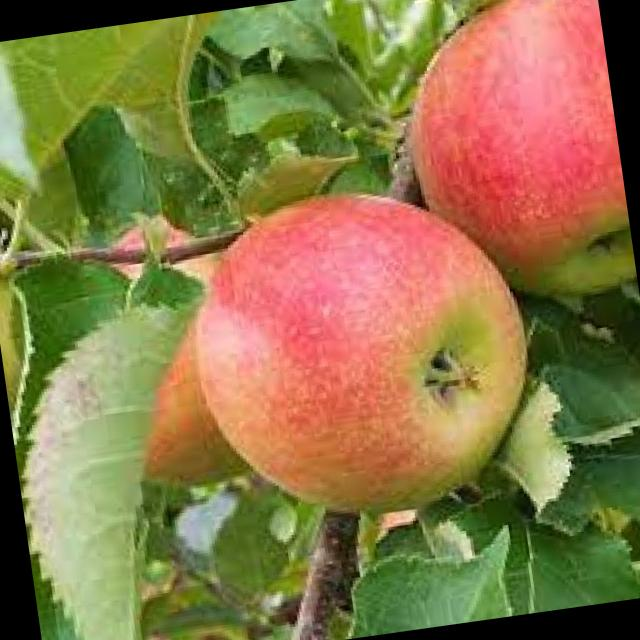Apple: (175, 166, 550, 536), (388, 0, 638, 317)
